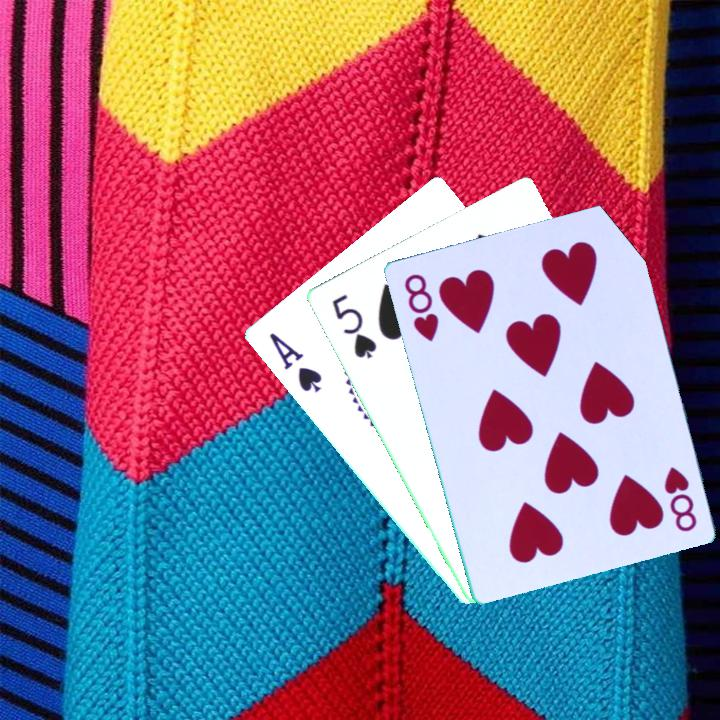5s: (327, 290, 379, 362)
8h: (400, 270, 441, 344), (659, 462, 700, 535)
As: (265, 328, 325, 395)
